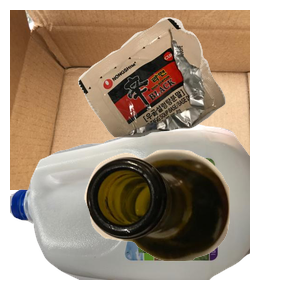cardboard: (10, 10, 250, 190)
glass: (82, 147, 300, 300)
plastic: (10, 120, 250, 300)
trash: (76, 15, 300, 145)
